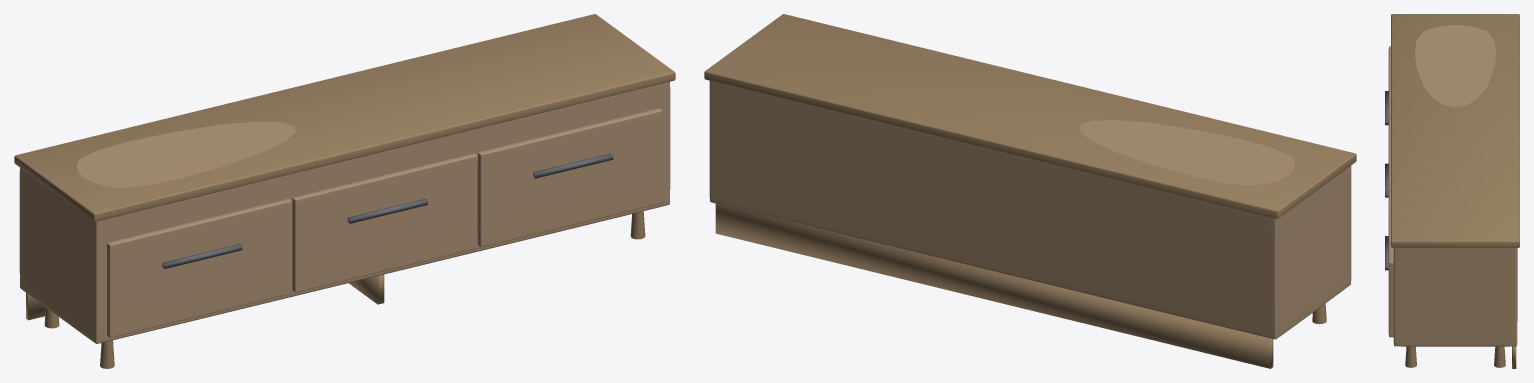
The model's file is tvCabinet.glb.
The picture shows the model from 3 angles, left to right: view 1: azimuth 30°, elevation 25°; view 2: azimuth 150°, elevation 25°; view 3: azimuth 270°, elevation 25°; orthographic projection. The views are drawn at different scales.
Visible parts, largest first — view 1: tvtop, tvbody, tvdoor_2, tvdoor_1, tvdoor_0, tvdivider, tvpull_2, tvpull_0, tvpull_1; view 2: tvbody, tvtop, tvback; view 3: tvtop, tvbody, tvdoor_2, tvfoot_1_1, tvfoot_1_-1, tvdoor_1, tvdoor_0, tvpull_0, tvpull_1, tvpull_2.
Part boxes in pixels (x1=…): tvtop: x1=14, y1=14, x2=675, y2=221; tvbody: x1=19, y1=81, x2=670, y2=343; tvdoor_2: x1=477, y1=108, x2=662, y2=247; tvdoor_1: x1=292, y1=153, x2=477, y2=292; tvdoor_0: x1=107, y1=199, x2=291, y2=337; tvdivider: x1=348, y1=274, x2=384, y2=304; tvpull_2: x1=533, y1=153, x2=613, y2=178; tvpull_0: x1=162, y1=244, x2=242, y2=268; tvpull_1: x1=347, y1=198, x2=427, y2=223; tvbody: x1=709, y1=81, x2=1351, y2=339; tvtop: x1=704, y1=14, x2=1356, y2=218; tvback: x1=715, y1=203, x2=1273, y2=368; tvtop: x1=1391, y1=14, x2=1519, y2=247; tvbody: x1=1393, y1=25, x2=1517, y2=346; tvdoor_2: x1=1388, y1=191, x2=1393, y2=337; tvfoot_1_1: x1=1494, y1=346, x2=1505, y2=367; tvfoot_1_-1: x1=1405, y1=346, x2=1416, y2=367; tvdoor_1: x1=1388, y1=119, x2=1390, y2=193; tvdoor_0: x1=1388, y1=46, x2=1390, y2=120; tvpull_0: x1=1385, y1=91, x2=1388, y2=125; tvpull_1: x1=1385, y1=163, x2=1388, y2=197; tvpull_2: x1=1385, y1=236, x2=1388, y2=270.
Size of the model in its own units: 1.82 by 0.5001 by 0.4555.
